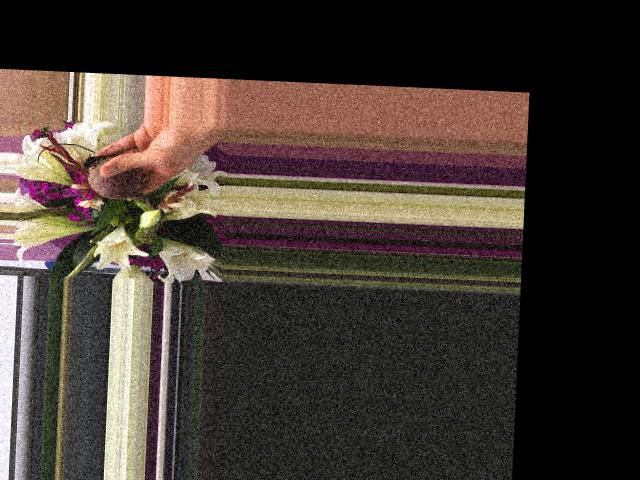beet: (81, 154, 159, 210)
